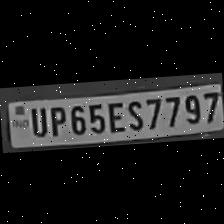5: (84, 98, 106, 132)
6: (65, 101, 86, 134)
7: (200, 88, 222, 122), (142, 94, 162, 128), (160, 92, 180, 126)
9: (179, 90, 201, 124)
E: (104, 97, 124, 131)
P: (46, 102, 66, 136)
S: (123, 96, 145, 130)
U: (26, 104, 47, 136)
